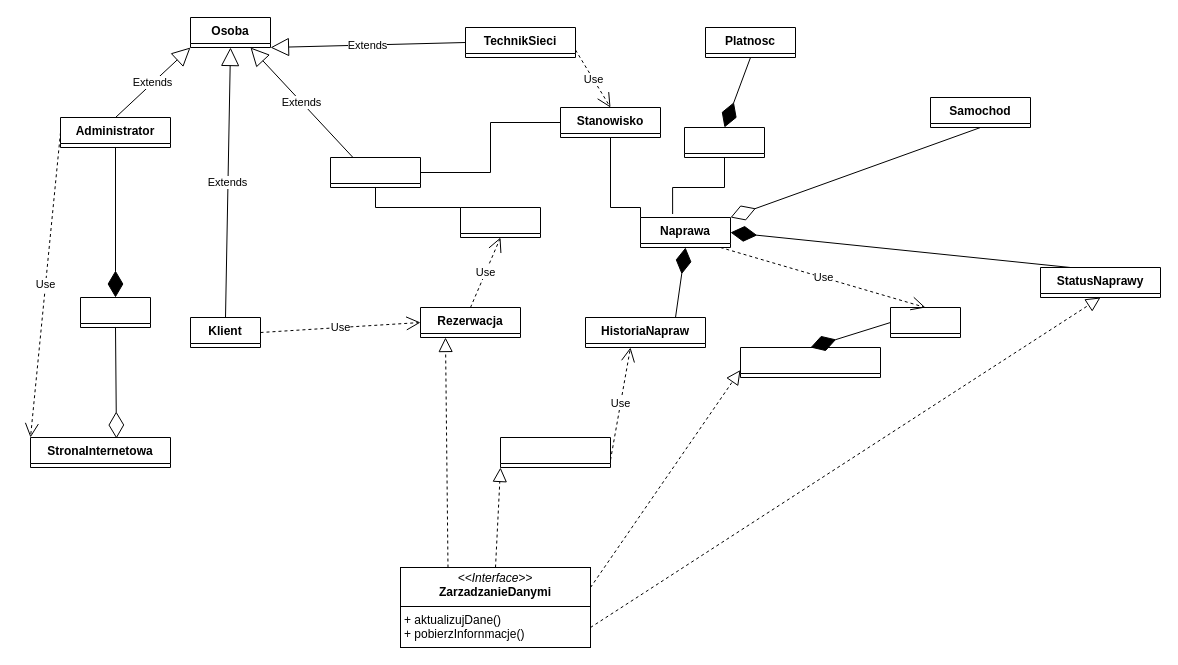
Image size: 1178x665. Some labels were removed from this diagram. The shapes that lost their labels are listed below. From the top down, each one's centre as x and y in pixels, then its label:
point (724, 142): Faktura
point (375, 172): Mechanik
point (500, 222): Usluga
point (115, 312): Grafik
point (925, 322): Czesc
point (810, 362): Magazyn
point (555, 452): BazaDanych
